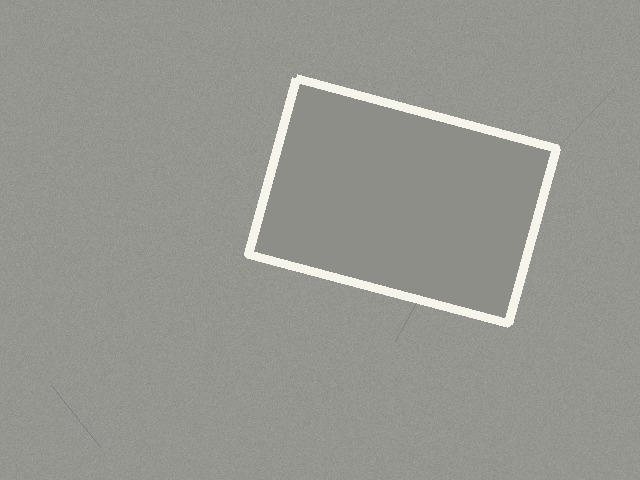parking_area: (248, 78, 556, 323)
